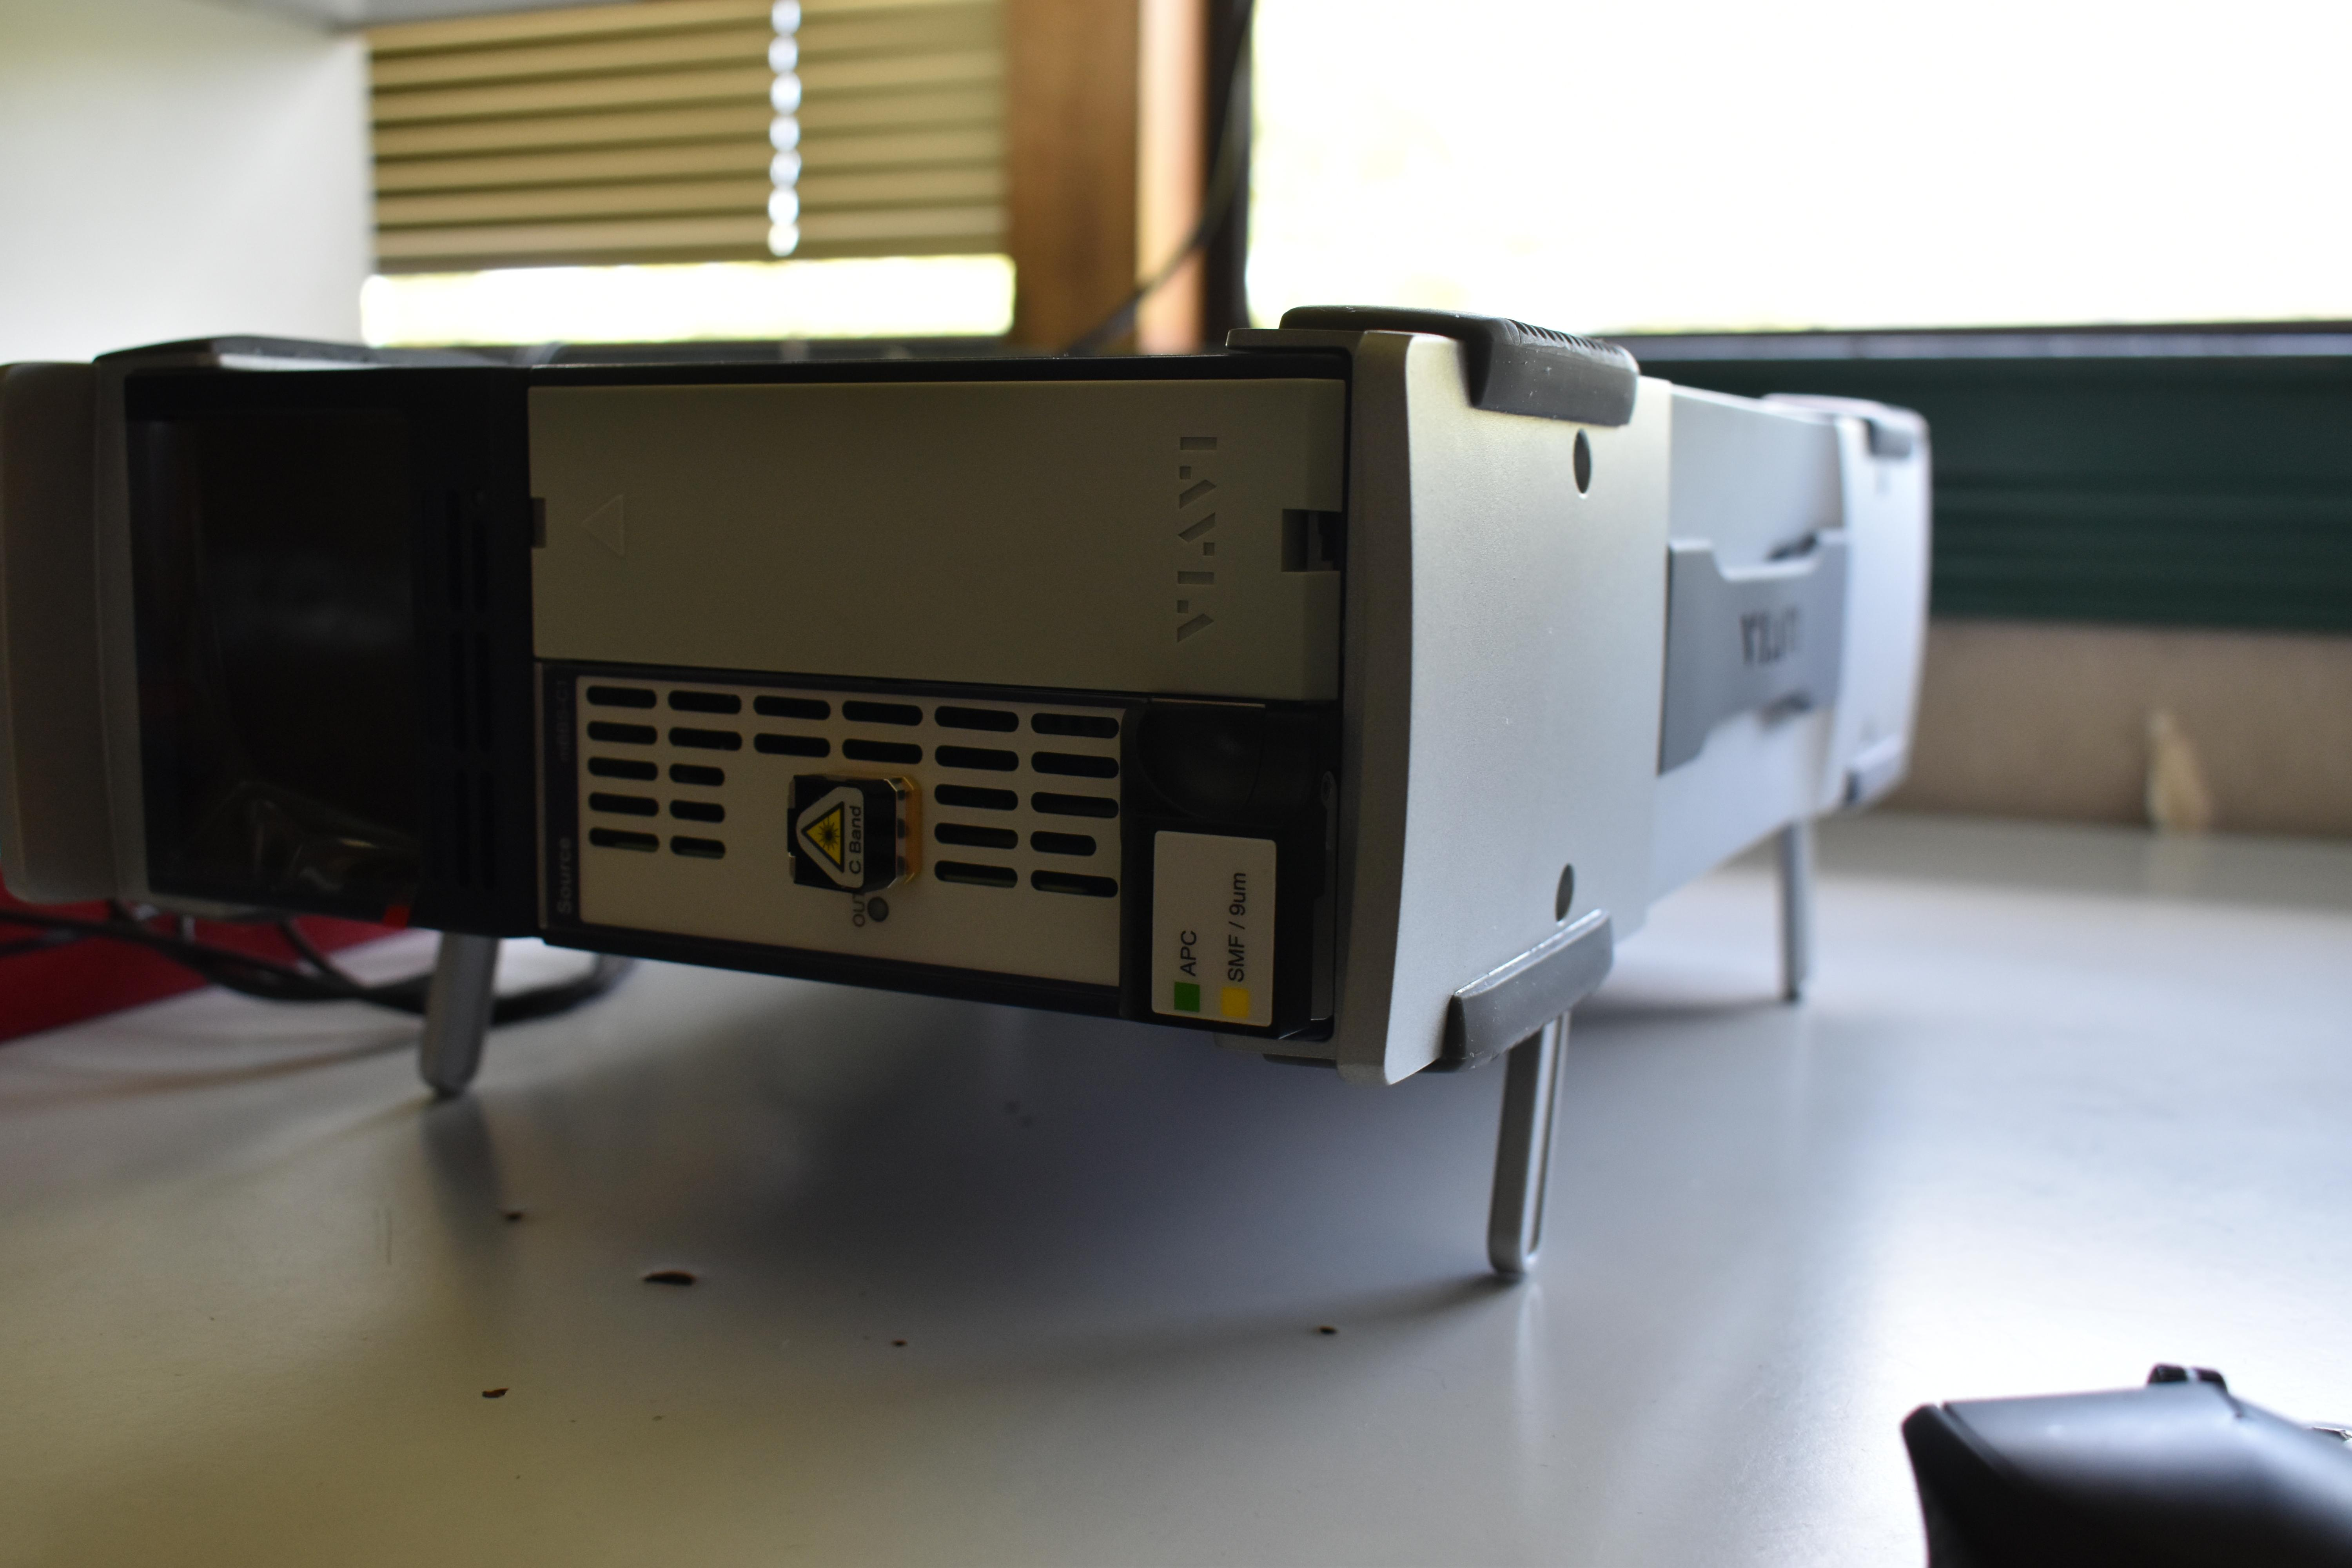laser: (0, 290, 1960, 1328)
